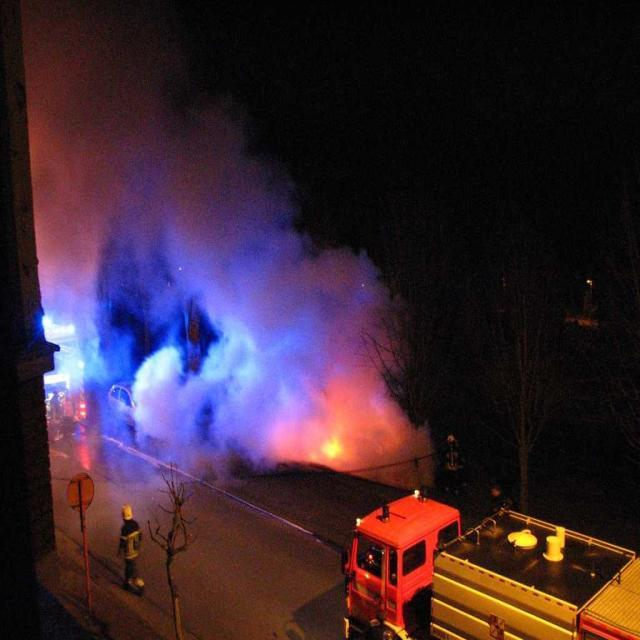Fire: (319, 440, 345, 453)
Smoke: (34, 16, 148, 170), (165, 113, 240, 252)
